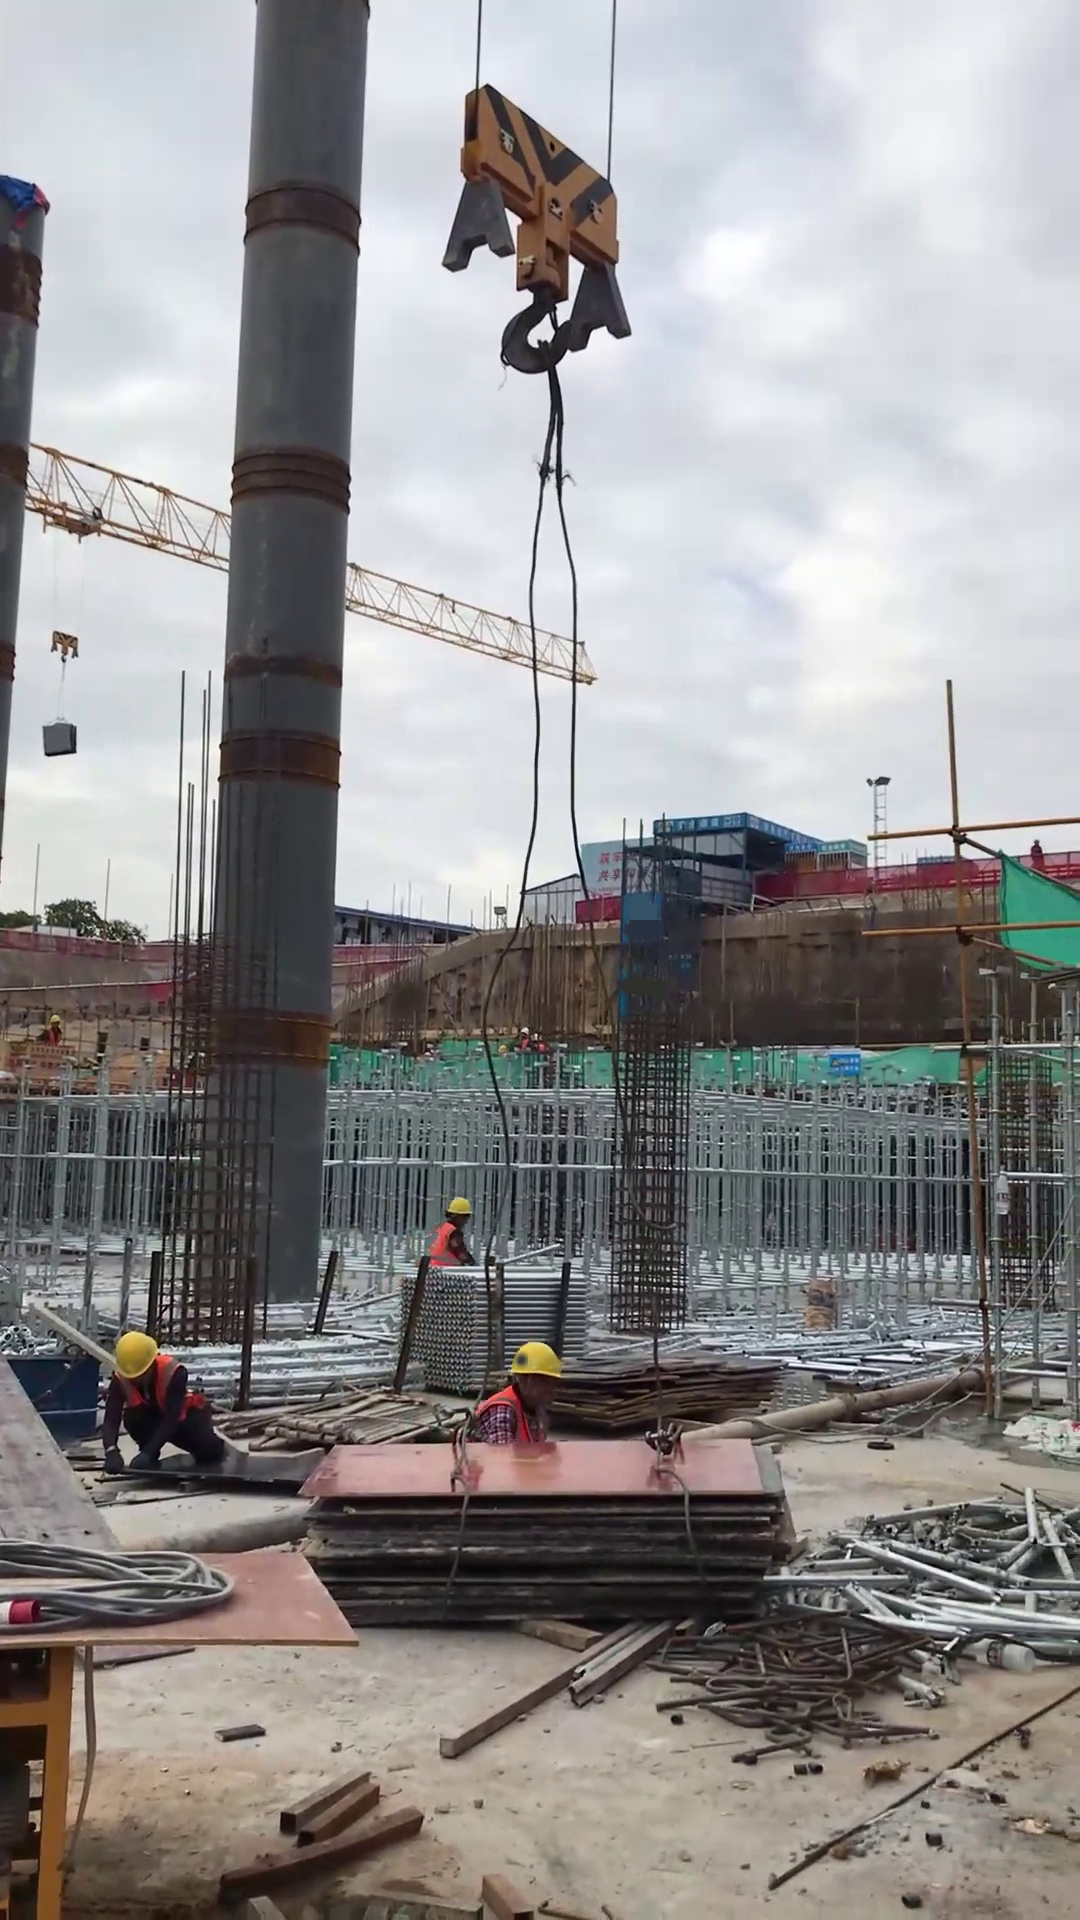board: (287, 1417, 826, 1648), (537, 1320, 799, 1451)
cutter: (1, 1529, 306, 1908)
fence: (792, 844, 999, 913)
helmet: (501, 1336, 567, 1386), (105, 1331, 167, 1382), (442, 1190, 476, 1222)
hook: (442, 77, 642, 377), (47, 627, 87, 663)
person: (96, 1328, 232, 1485), (458, 1328, 582, 1457), (421, 1182, 487, 1286)
scaffold: (399, 1251, 616, 1394)
vest: (111, 1357, 208, 1431), (469, 1382, 549, 1457), (424, 1217, 472, 1269)
